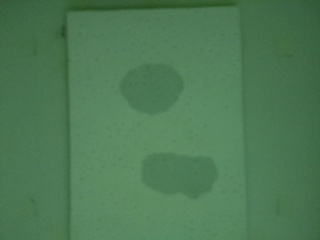Water_detected: (147, 151, 211, 192), (125, 69, 184, 112)
